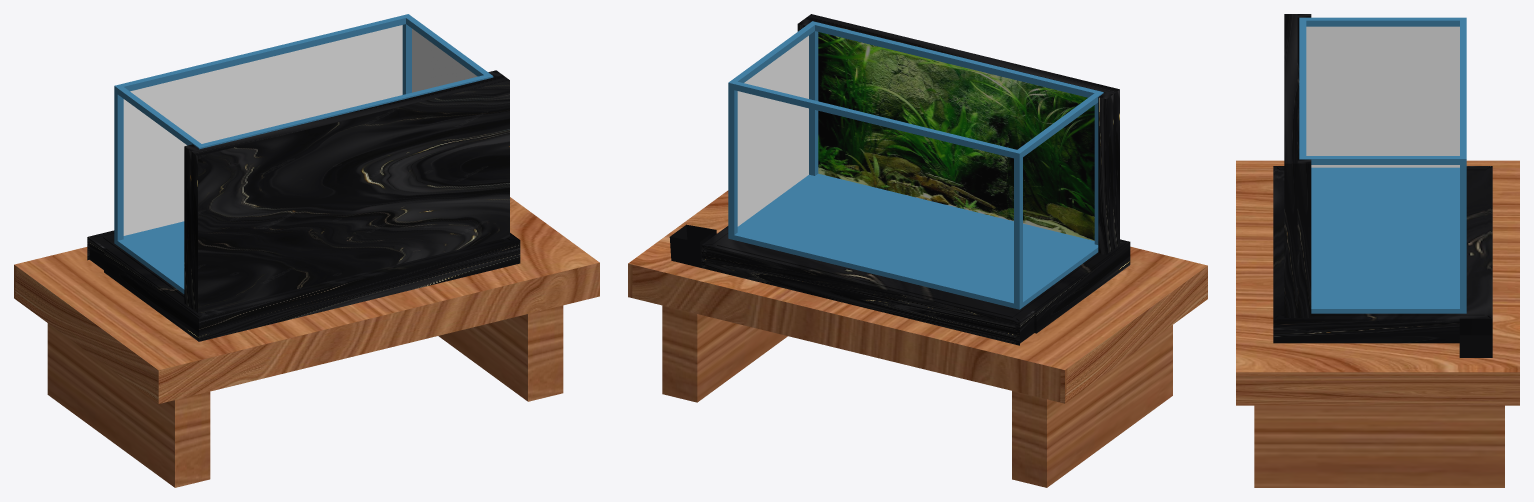
File: akuarium.glb
3 renders of one model, left to right at view 1: azimuth 30°, elevation 25°; view 2: azimuth 150°, elevation 25°; view 3: azimuth 270°, elevation 25°, orthographic.
Parts seen in each view (by area): view 1: Cube.002_0; view 2: Cube.002_0; view 3: Cube.002_0.
Part boxes in pixels (x1,y1,x2,y2): Cube.002_0: [14, 14, 599, 487]; Cube.002_0: [628, 14, 1207, 487]; Cube.002_0: [1236, 14, 1519, 487].
Bounding box in the file's own units: 1.91 × 1.29 × 1.08.
Materials: 8 (5 with a texture image).
